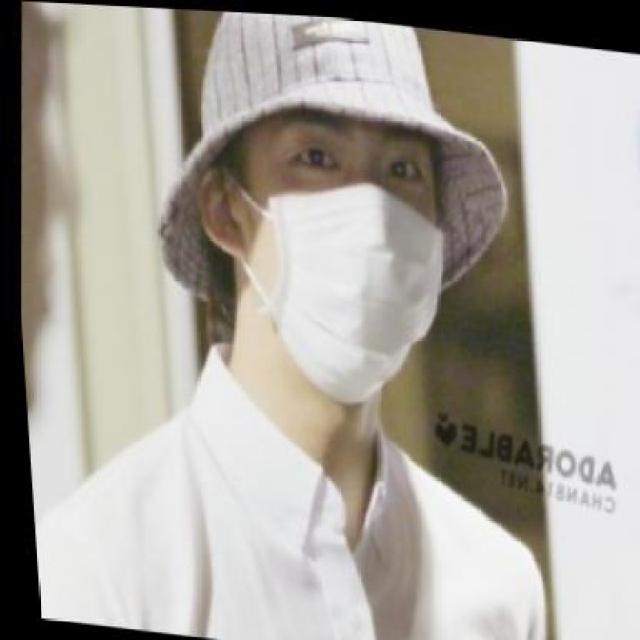hat: (155, 9, 506, 311)
